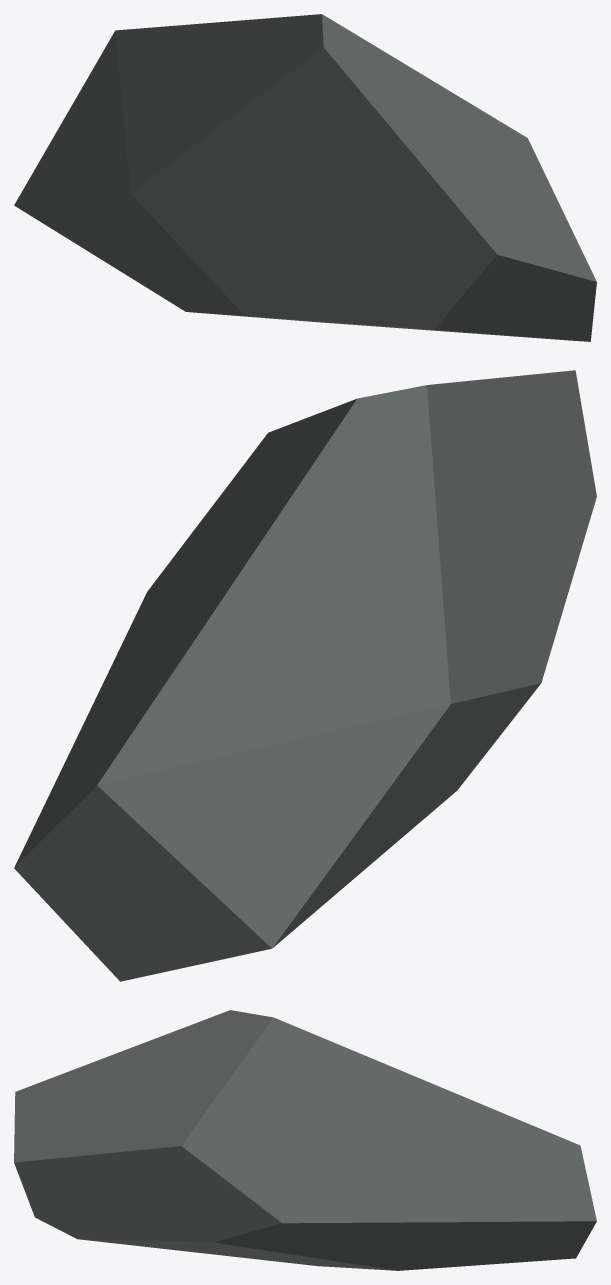
Rendered from Rock_07.glb.
3 views of the same model, one above another, from view 1: azimuth 30°, elevation 25°; view 2: azimuth 150°, elevation 25°; view 3: azimuth 270°, elevation 25° (orthographic). The views are drawn at different scales.
Visible parts, largest first — view 1: Rock_07; view 2: Rock_07; view 3: Rock_07.
Boxes of the visible parts, x1=… form: Rock_07: x1=14, y1=14, x2=596, y2=341; Rock_07: x1=14, y1=370, x2=596, y2=981; Rock_07: x1=14, y1=1010, x2=596, y2=1270.
Size of what is drawn, in the model's own units: 1.69 by 1.79 by 3.87.
1 material, 1 textured.
